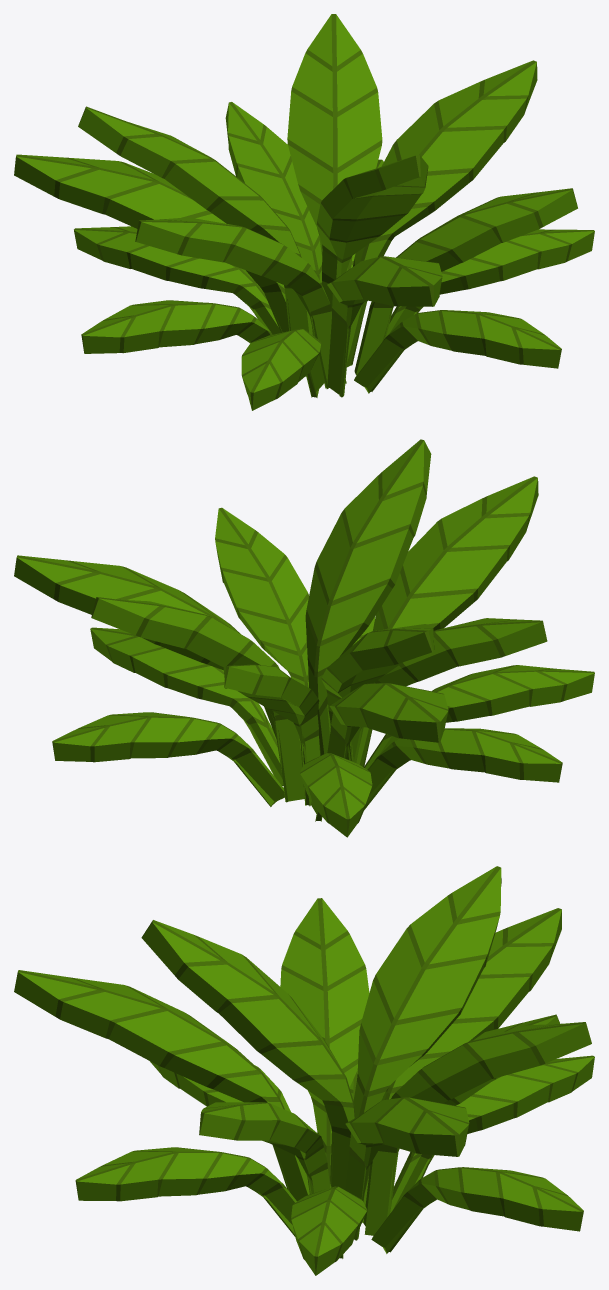
File: BushJungle.fbx
3 views of the same model, one above another, from view 1: azimuth 30°, elevation 25°; view 2: azimuth 150°, elevation 25°; view 3: azimuth 270°, elevation 25° (orthographic). The views are drawn at different scales.
Visible parts, largest first — view 1: Bush; view 2: Bush; view 3: Bush.
Boxes of the visible parts, x1,y1,x2,y2 form: Bush: (14,14,594,410); Bush: (14,439,594,837); Bush: (14,866,594,1275).
Size of the model in its own units: 404 by 227 by 384.
